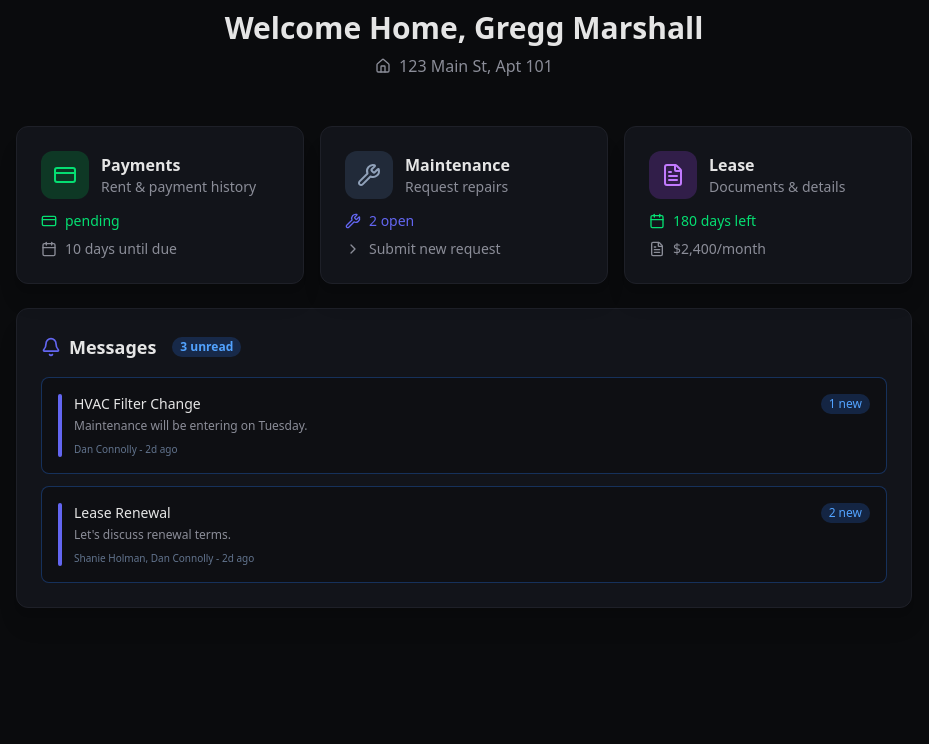
Test: TenantDashboard › Card Interactions › should expand payments card when clicked
Click the button "Payments Rent & payment history pending 10 days until due" at (65, 175), box [16,126,304,284]
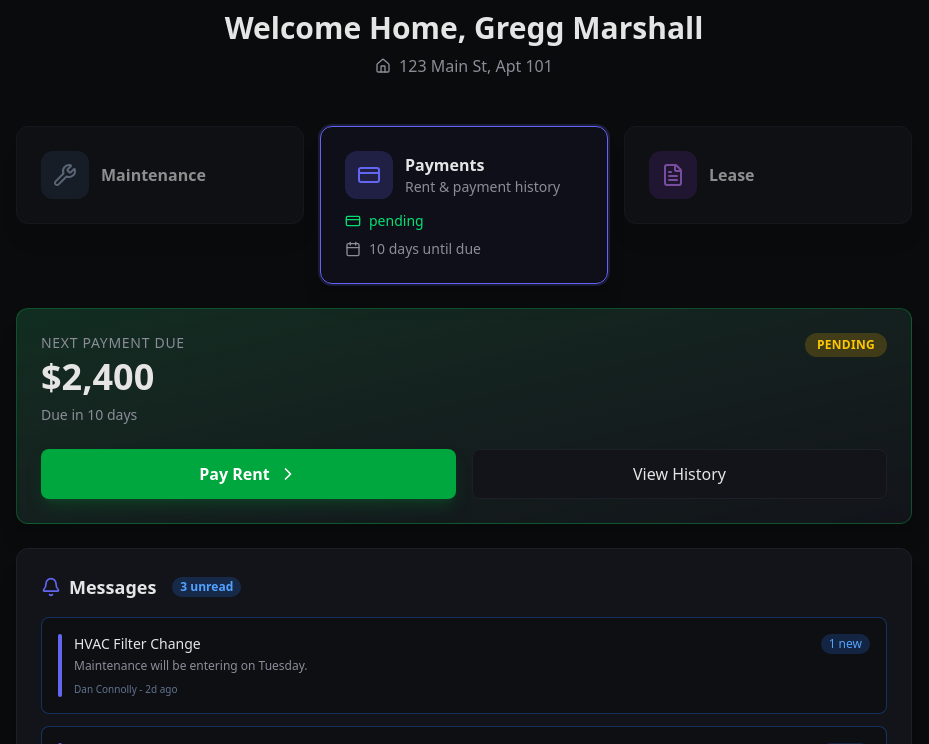
Check: the text "Next Payment Due" is shown, box [41,333,185,353]
